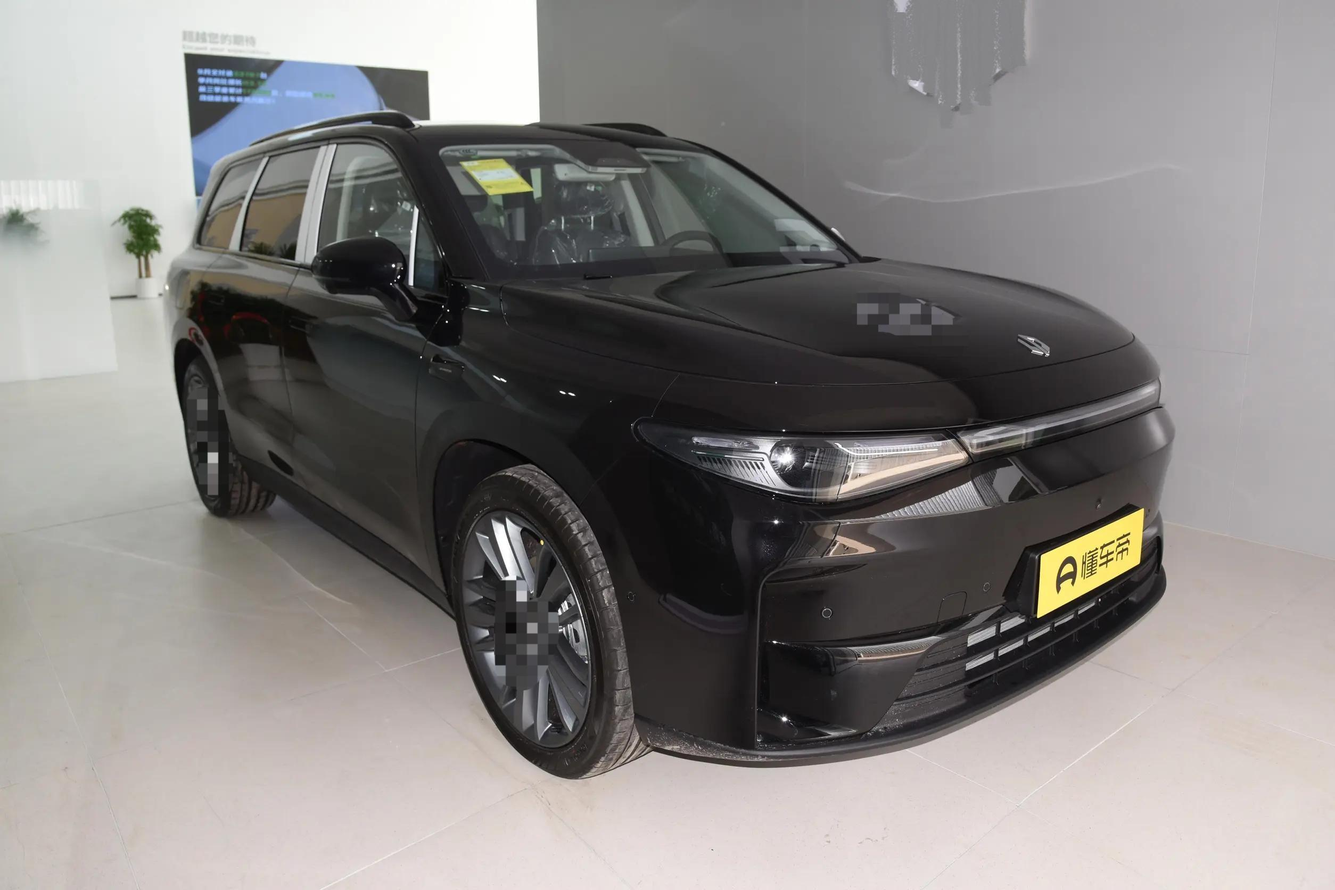LEAPMOTOR: (1016, 332, 1052, 359)
